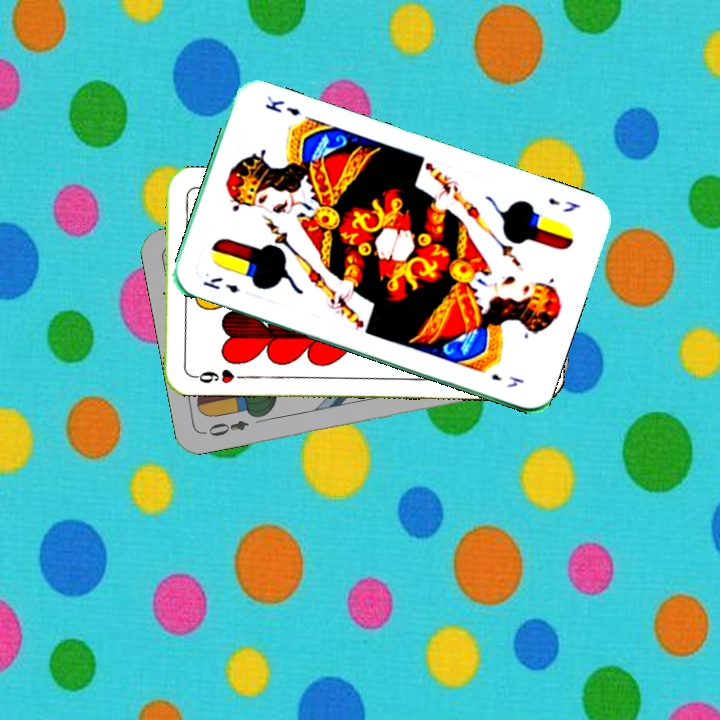EK: (199, 273, 243, 296), (544, 193, 583, 215)
EO: (204, 416, 251, 439)
H9: (188, 365, 237, 386)
